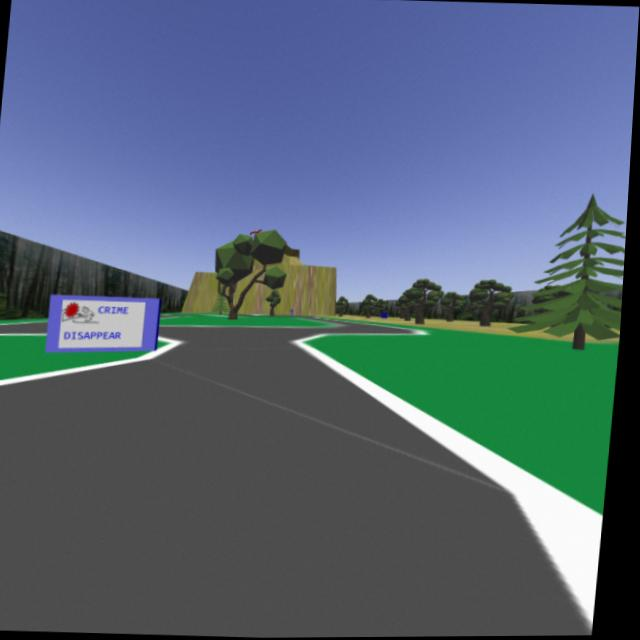clueboard: (41, 291, 163, 357)
